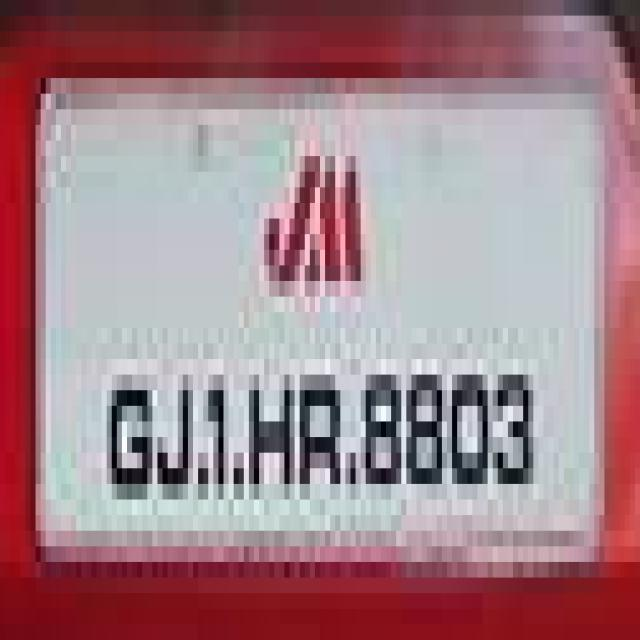plate: (41, 78, 614, 578)
